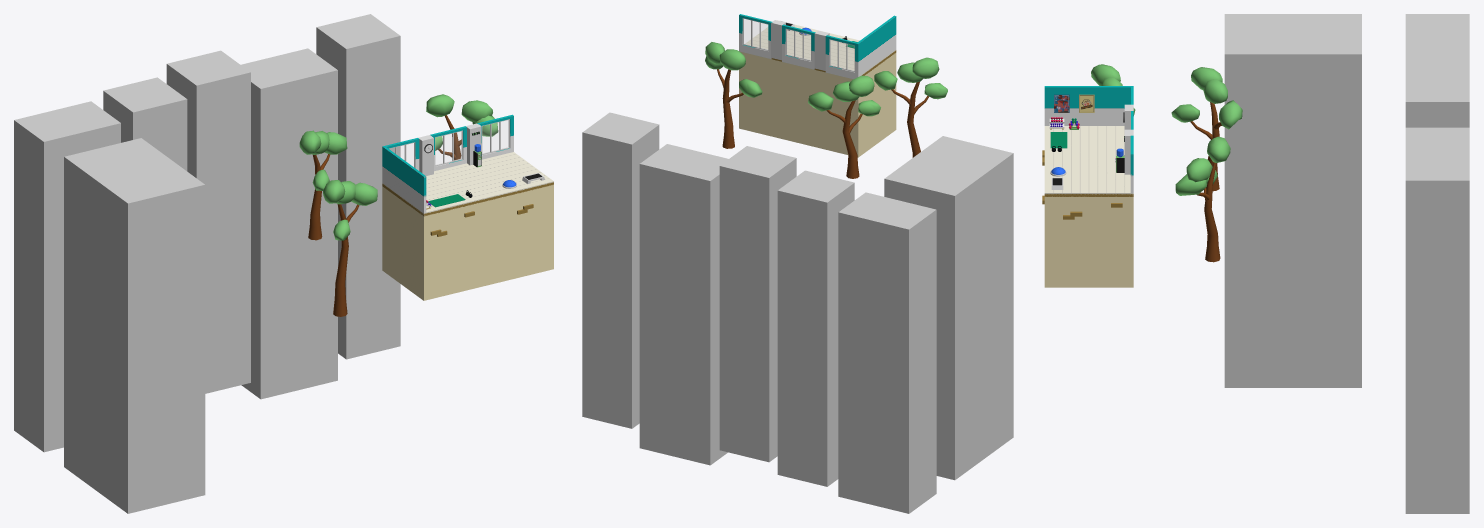
Rendered from gym2.FBX.
3 views of the same model, side by side, from view 1: azimuth 30°, elevation 25°; view 2: azimuth 150°, elevation 25°; view 3: azimuth 270°, elevation 25° (orthographic). The views are drawn at different scales.
Visible parts, largest first — view 1: Box461, Box457, Box460, Box456, Box459, Box350, Box458, Box341, Box262, Cylinder247, Cylinder177; view 2: Box460, Box461, Box457, Box458, Box456, Box459, Box350, Box341, Box262, Cylinder177, Cylinder180, Box296 (+6 smaller); view 3: Box461, Box459, Box350, Box341, Box456, Box262, Box460, Box457, Box458, Cylinder180, Sphere024, Sphere022 (+2 smaller).
Boxes of the visible parts, box(x1,y1,x2,y2) form: Box461: box(64, 138, 205, 513); Box457: box(241, 48, 337, 399); Box460: box(14, 101, 120, 452); Box456: box(166, 50, 250, 393); Box459: box(316, 14, 400, 359); Box350: box(382, 184, 553, 300); Box458: box(103, 77, 187, 170); Box341: box(382, 152, 553, 213); Box262: box(382, 146, 426, 216); Cylinder247: box(333, 204, 348, 316); Cylinder177: box(308, 155, 322, 240); Box460: box(838, 192, 936, 513); Box461: box(884, 136, 1013, 480); Box457: box(639, 144, 728, 465); Box458: box(777, 170, 854, 486); Box456: box(719, 146, 796, 462); Box459: box(582, 112, 659, 428); Box350: box(739, 51, 896, 157); Box341: box(745, 20, 896, 76); Box262: box(856, 15, 896, 76); Cylinder177: box(842, 100, 859, 178); Cylinder180: box(722, 69, 734, 148); Box296: box(782, 24, 815, 69); Box461: box(1224, 14, 1361, 387); Box459: box(1405, 152, 1469, 513); Box350: box(1044, 196, 1133, 287); Box341: box(1044, 126, 1133, 194); Box456: box(1405, 73, 1469, 127); Box262: box(1044, 86, 1130, 125); Box460: box(1405, 14, 1469, 52); Box457: box(1405, 127, 1469, 151); Box458: box(1405, 52, 1469, 73); Cylinder180: box(1204, 162, 1220, 262); Sphere024: box(1186, 158, 1212, 182); Sphere022: box(1207, 136, 1230, 162).
Bounding box in the file's own units: 38.59 × 35.86 × 37.29.
Materials: 18 (6 with a texture image).
